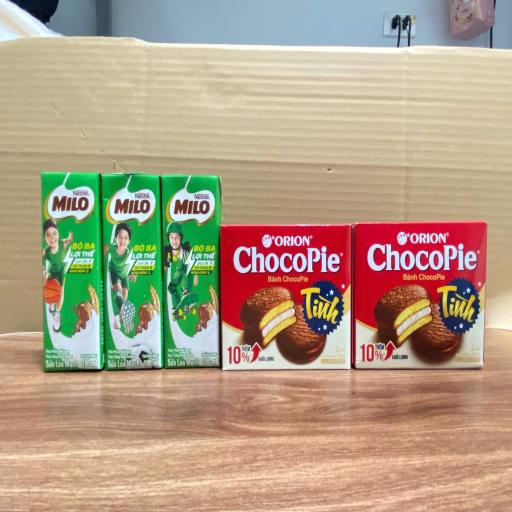chocopie: (352, 220, 488, 370), (220, 224, 352, 371)
milo: (40, 172, 106, 373), (101, 174, 164, 370), (161, 174, 222, 368)
